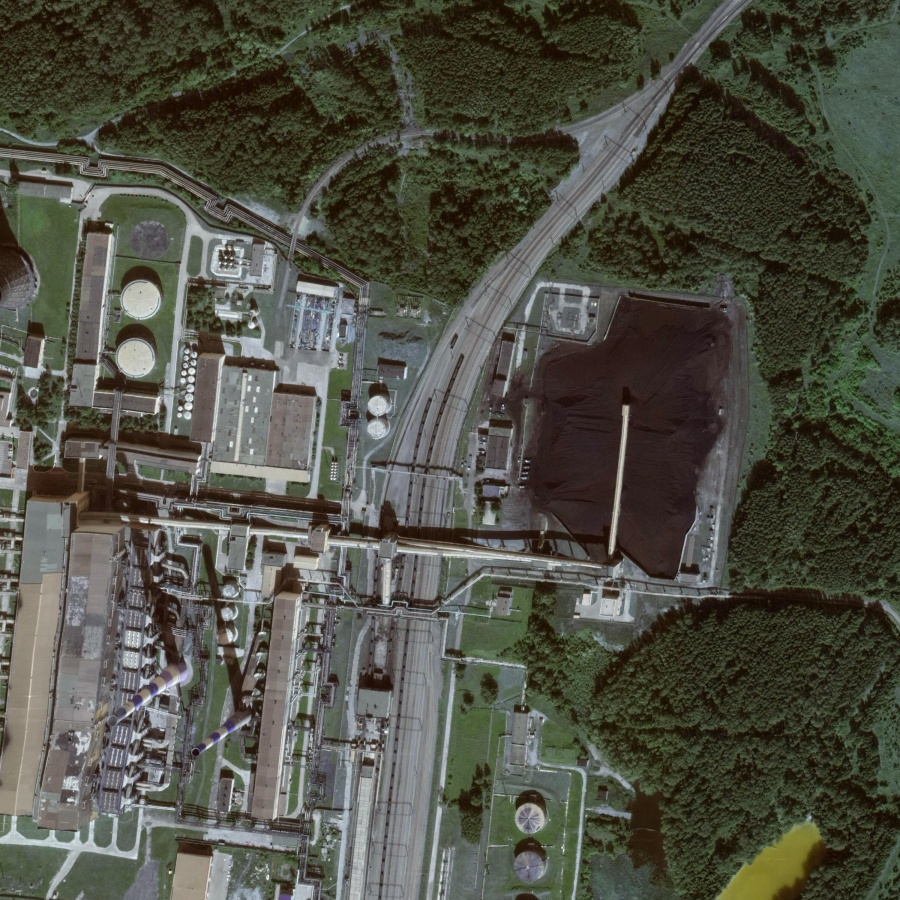PowerPlant: (462, 274, 732, 589), (76, 459, 330, 787)
